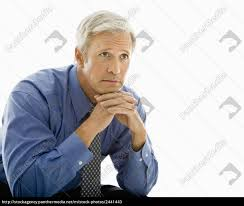white_male: (90, 36, 131, 87)
